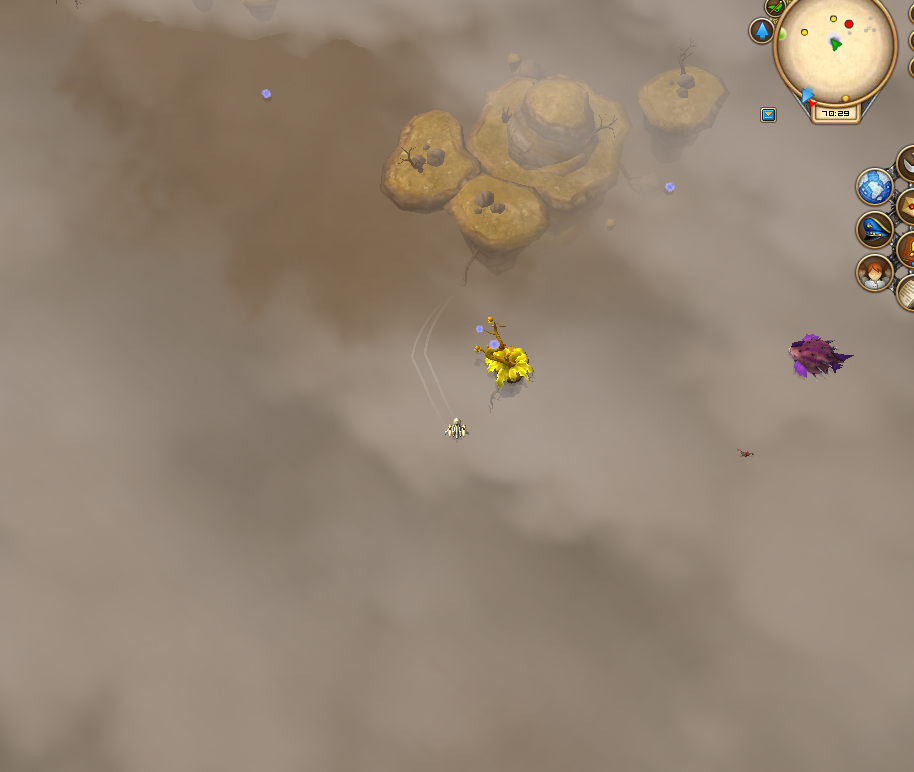dandelion-full: (466, 313, 536, 401)
fluff: (660, 177, 678, 196), (259, 85, 274, 102)
